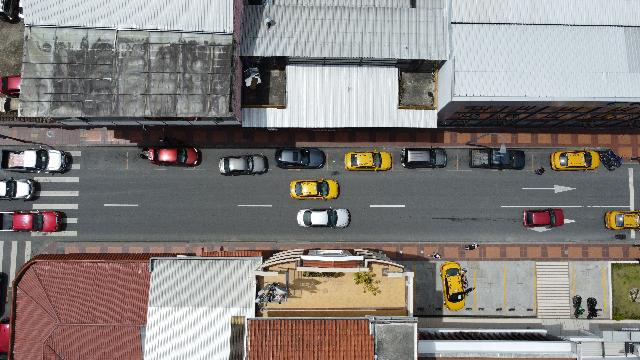Vehiculo: (1, 146, 67, 173), (140, 138, 202, 166), (0, 210, 62, 232), (440, 261, 466, 310), (469, 148, 525, 170), (274, 147, 326, 169), (290, 178, 340, 200), (550, 150, 600, 172), (218, 154, 268, 176), (298, 208, 350, 228), (345, 151, 393, 171), (400, 148, 448, 168), (523, 208, 563, 228), (604, 210, 640, 231), (0, 179, 34, 201), (425, 0, 441, 6)
